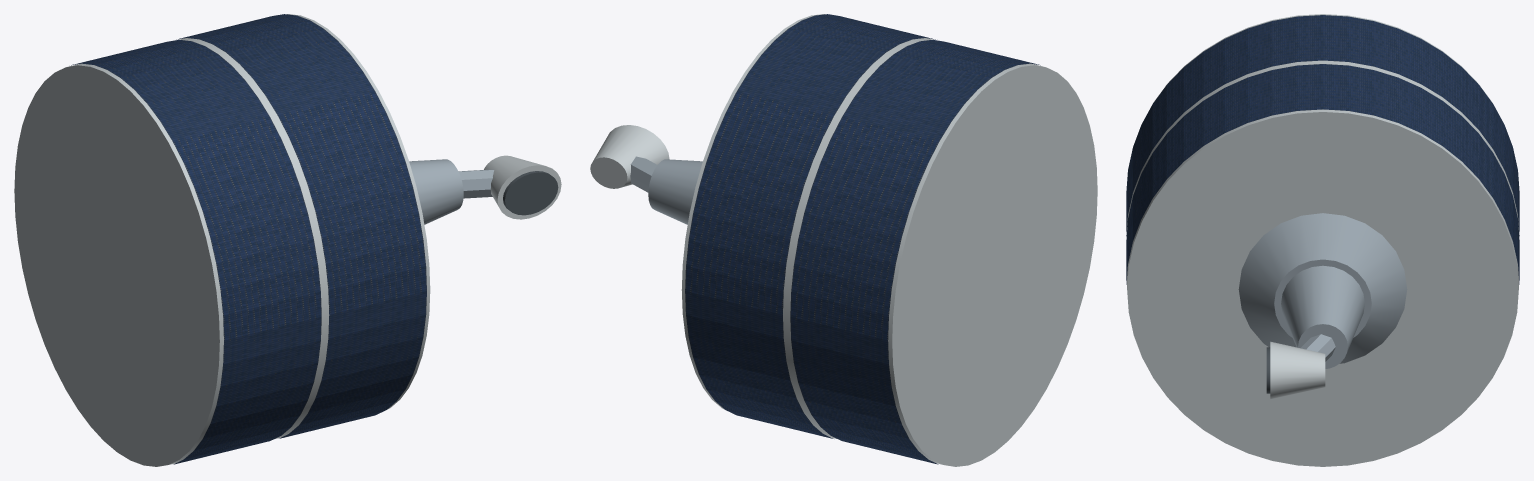
The model's file is ref-skynet-4250.glb.
3 renders of one model, left to right at view 1: azimuth 30°, elevation 25°; view 2: azimuth 150°, elevation 25°; view 3: azimuth 270°, elevation 25°, orthographic. The views are drawn at different scales.
Parts seen in each view (by area): view 1: Body solar-cell band (×2), Spin-stabilized bus, Antenna support, Horn aperture, Earth-facing feed, Despun feed elbow; view 2: Body solar-cell band (×2), Spin-stabilized bus, Earth-facing feed, Antenna support, Despun feed elbow; view 3: Spin-stabilized bus, Body solar-cell band (×2), Despin bearing, Antenna support, Earth-facing feed, Despun feed elbow.
Part boxes in pixels (left/top/right/bottom): Body solar-cell band (×2): left=71, top=14, right=426, bottom=464; Spin-stabilized bus: left=14, top=14, right=430, bottom=466; Antenna support: left=409, top=159, right=463, bottom=224; Horn aperture: left=503, top=171, right=558, bottom=215; Earth-facing feed: left=484, top=155, right=561, bottom=219; Despun feed elbow: left=458, top=169, right=494, bottom=198; Body solar-cell band (×2): left=685, top=14, right=1040, bottom=464; Spin-stabilized bus: left=681, top=14, right=1097, bottom=466; Earth-facing feed: left=590, top=125, right=669, bottom=188; Antenna support: left=648, top=159, right=702, bottom=224; Despun feed elbow: left=630, top=156, right=657, bottom=192; Spin-stabilized bus: left=1127, top=14, right=1518, bottom=466; Body solar-cell band (×2): left=1126, top=15, right=1519, bottom=284; Despin bearing: left=1238, top=213, right=1407, bottom=363; Antenna support: left=1281, top=265, right=1364, bottom=368; Earth-facing feed: left=1270, top=341, right=1325, bottom=399; Despun feed elbow: left=1300, top=334, right=1335, bottom=361.
Size of the model in its own units: 1.6 by 1.38 by 1.38.
Materials: 4 (1 with a texture image).
